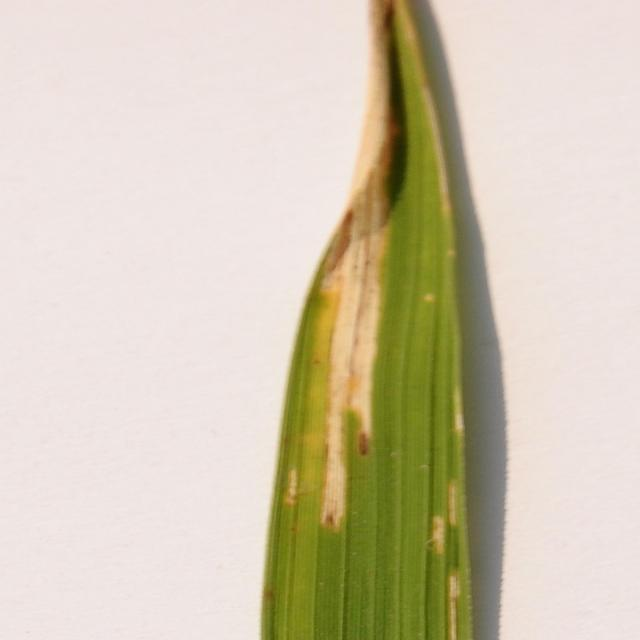leaf blight: (270, 1, 472, 635)
